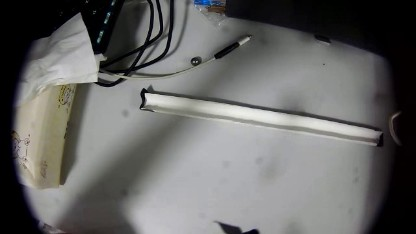gangzhu: (189, 55, 201, 66)
